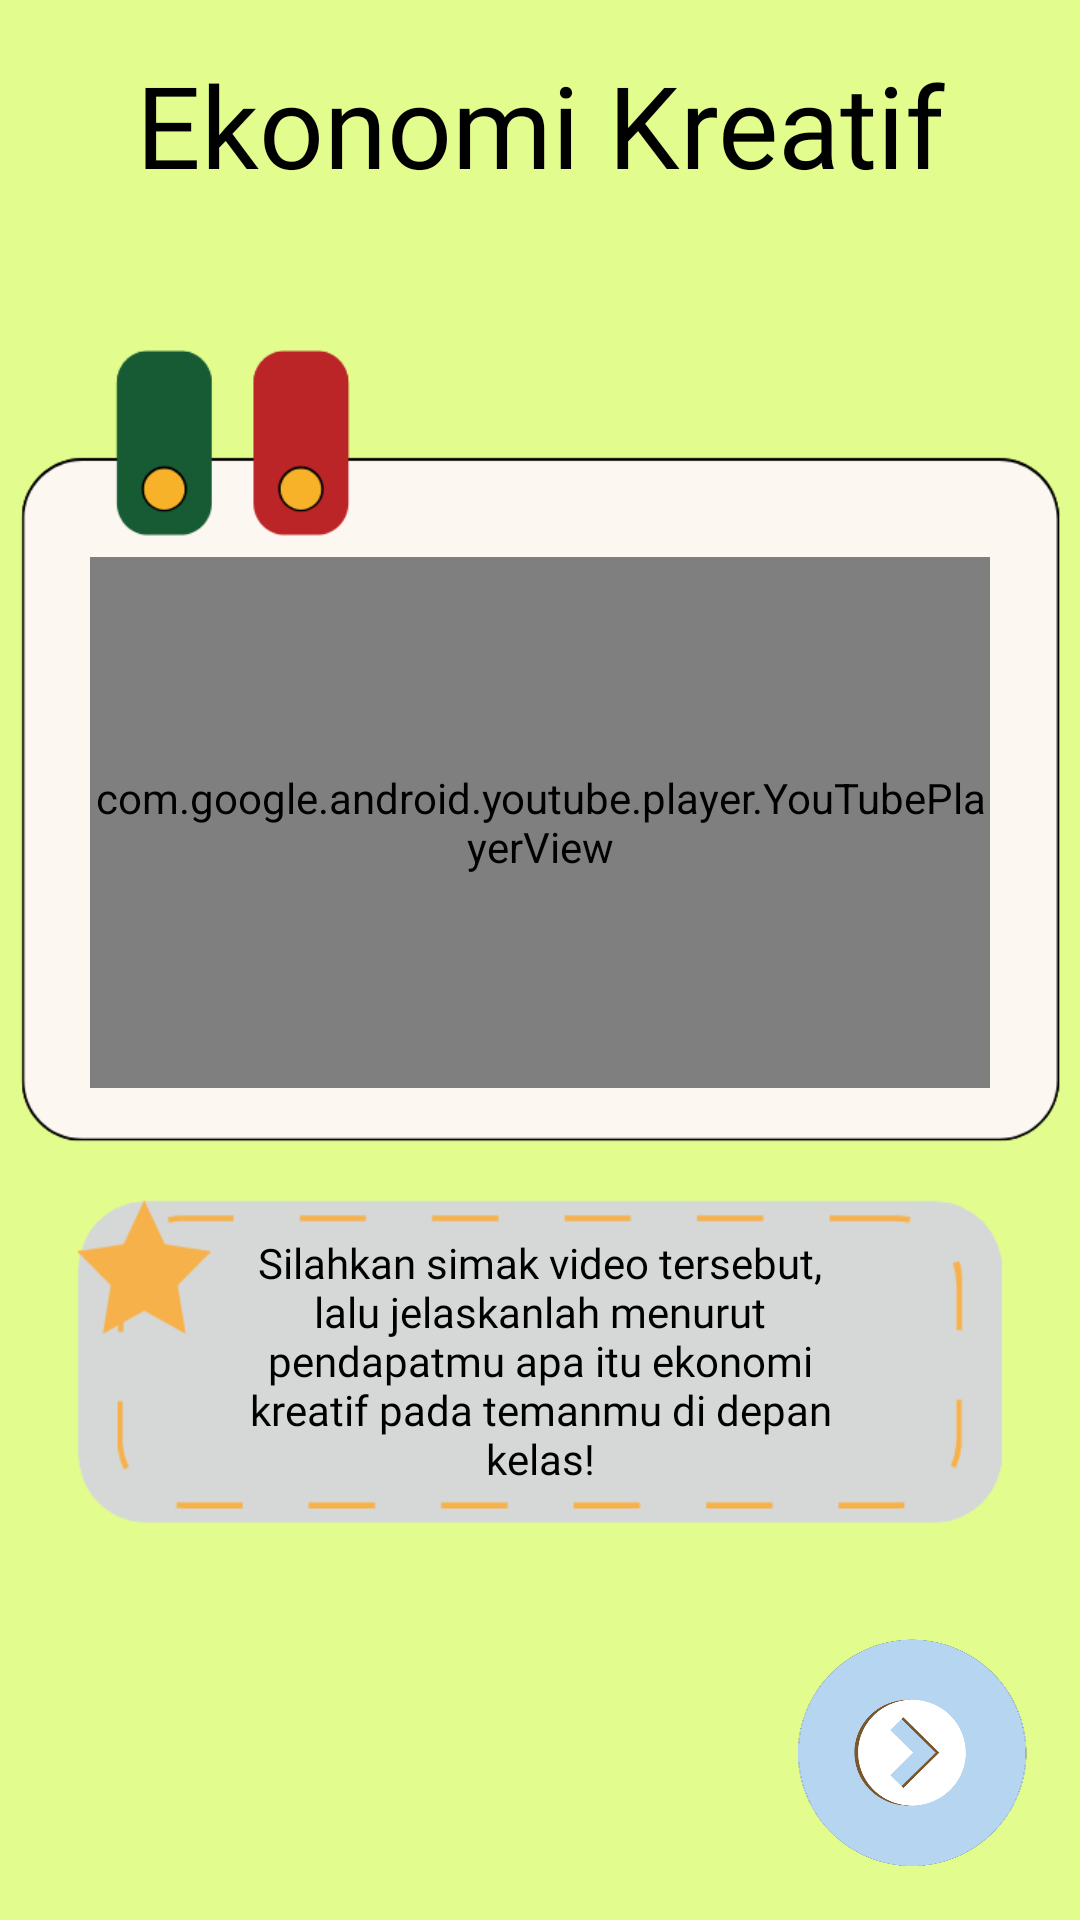

Screen size 1080×1920. Icon name, then its center in pixels as (x,y):
assets nextprev: (912,1752)
